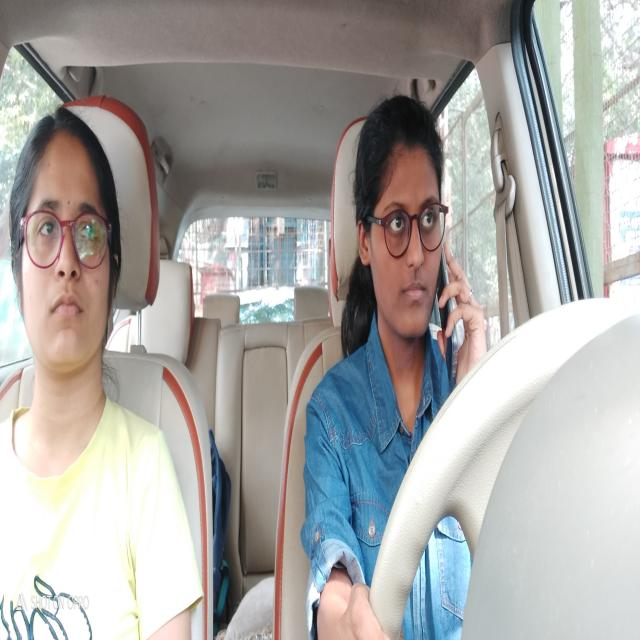mobile: (436, 249, 466, 391)
person: (8, 104, 123, 397), (355, 91, 447, 338)
